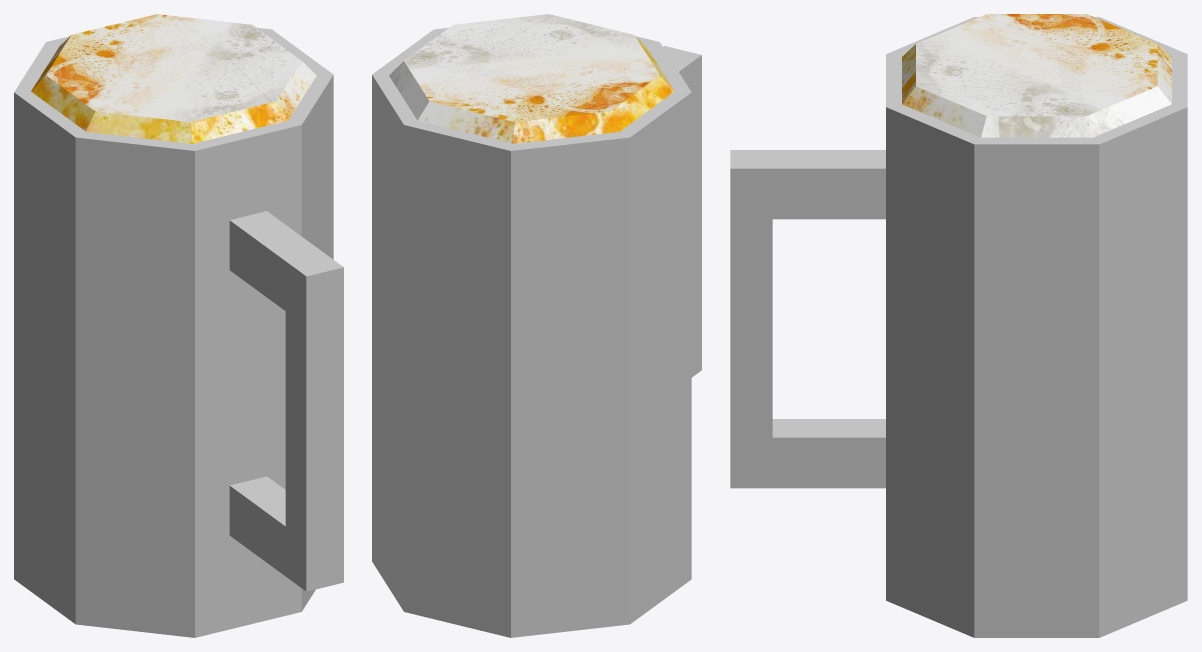
Rendered from birra.fbx.
3 views of the same model, side by side, from view 1: azimuth 30°, elevation 25°; view 2: azimuth 150°, elevation 25°; view 3: azimuth 270°, elevation 25° (orthographic).
Visible parts, largest first — view 1: cristal, liquido; view 2: cristal, liquido; view 3: cristal, liquido.
Part boxes in pixels (x1,y1,x2,y2): cristal: (14,27,343,637); liquido: (31,14,316,143); cristal: (372,27,701,637); liquido: (389,14,674,143); cristal: (730,17,1187,637); liquido: (902,14,1171,137).
Size of the model in its own units: 8.31 by 15.47 by 12.61.
